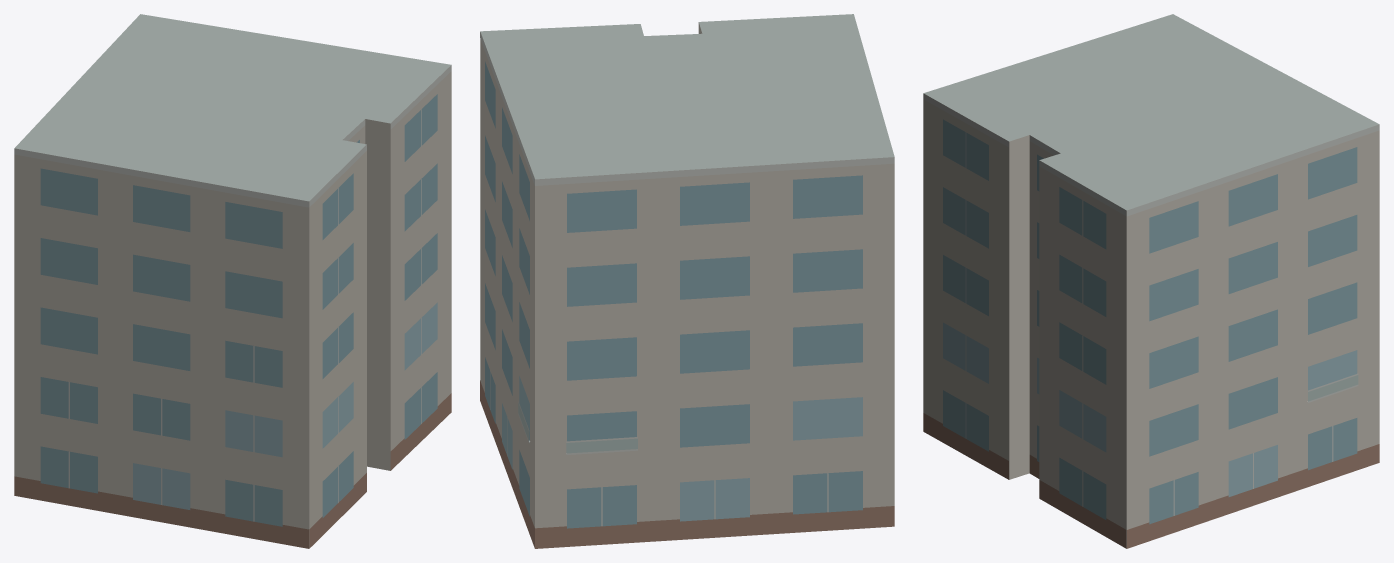
The model's file is survey-upis-32904105.glb.
3 views of the same model, side by side, from view 1: azimuth 30°, elevation 25°; view 2: azimuth 150°, elevation 25°; view 3: azimuth 270°, elevation 25° (orthographic). The views are drawn at different scales.
Visible parts, largest first — view 1: survey-upis-32904105.tmp; view 2: survey-upis-32904105.tmp; view 3: survey-upis-32904105.tmp.
Part boxes in pixels (box(x1,y1,x2,y2)): survey-upis-32904105.tmp: box(14, 14, 451, 548); survey-upis-32904105.tmp: box(480, 14, 894, 548); survey-upis-32904105.tmp: box(923, 14, 1379, 548).
Size of the model in its own units: 17.07 by 13.7 by 16.75.
